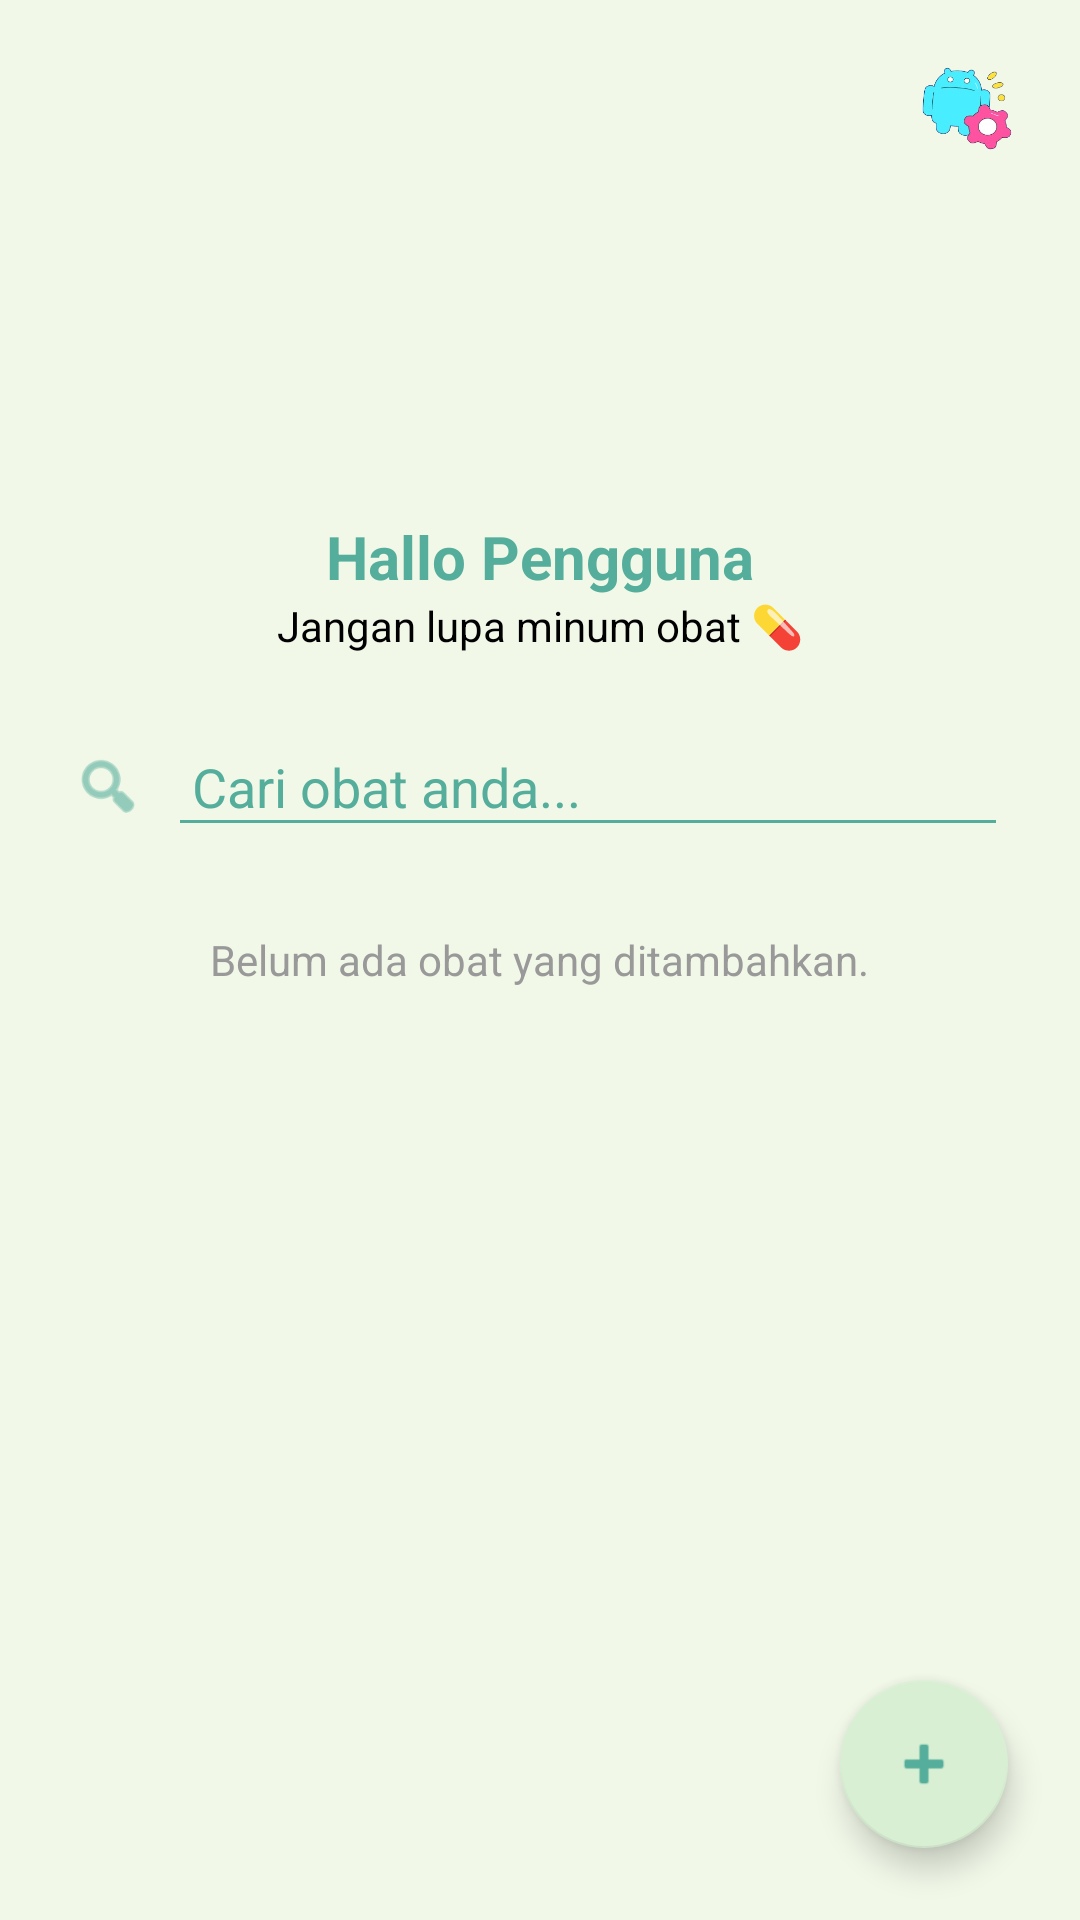

Icons on this 1080 × 1920 Android screen, each with the point to tap as (x,y):
Tambah Obat Baru: (924,1765)
